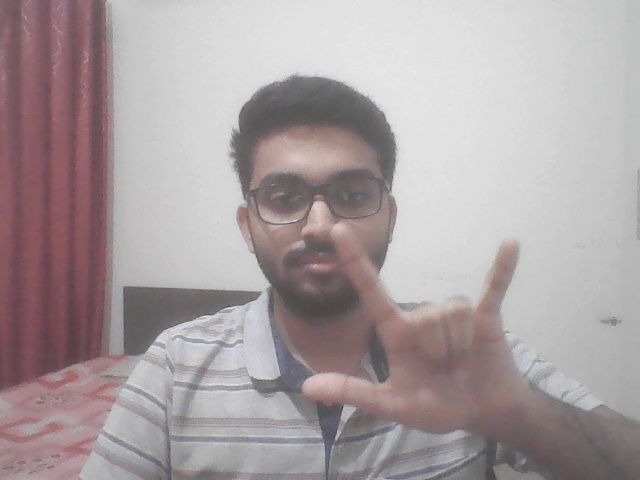iloveyou: (278, 198, 545, 468)
